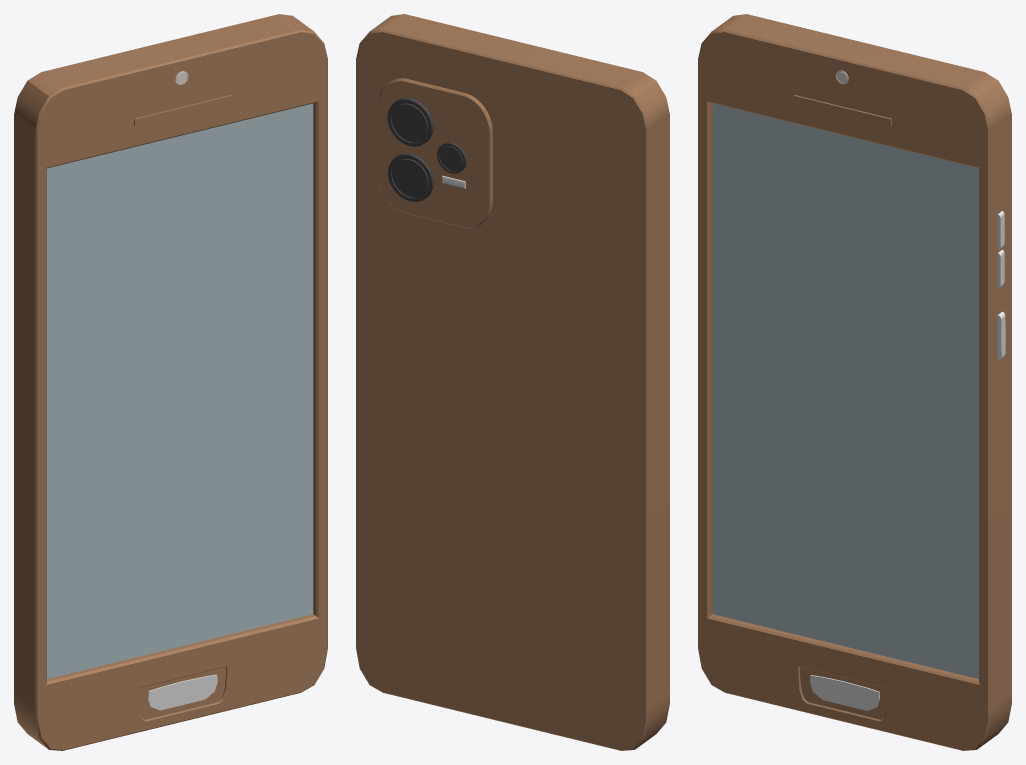
File: Cellphone.fbx
The picture shows the model from 3 angles, left to right: view 1: azimuth 30°, elevation 25°; view 2: azimuth 150°, elevation 25°; view 3: azimuth 330°, elevation 25°; orthographic projection.
Parts seen in each view (by area): view 1: pasted__pasted__Camera_3; view 2: pasted__pasted__Camera_3; view 3: pasted__pasted__Camera_3.
Boxes of the visible parts, box(x1,y1,x2,y2) form: pasted__pasted__Camera_3: box(14, 14, 327, 750); pasted__pasted__Camera_3: box(356, 14, 669, 750); pasted__pasted__Camera_3: box(698, 14, 1011, 750).
Bounding box in the file's own units: 1.57 × 3.37 × 0.2657.
